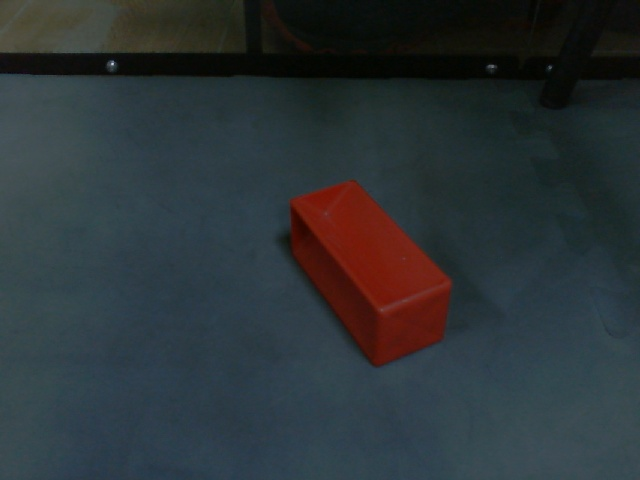RedSample: (286, 178, 455, 373)
